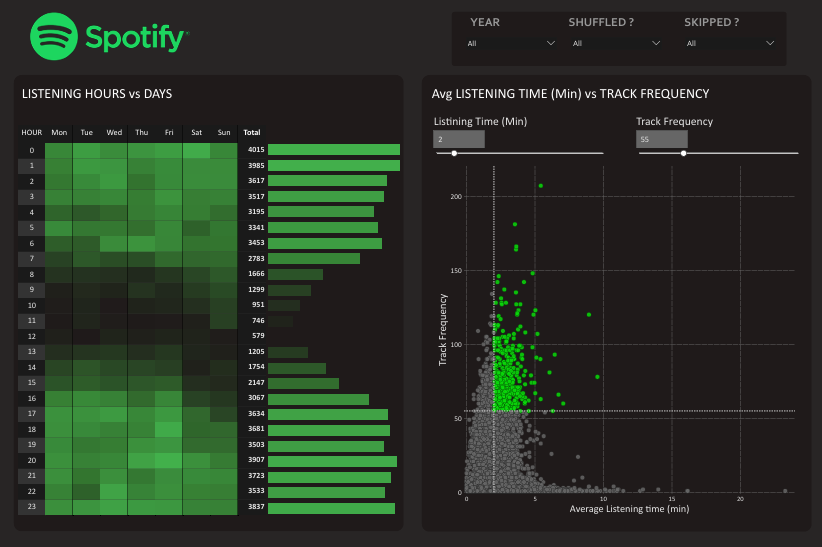

Layout of this report page (visuals, bound fields, positions):
{"tool":"powerbi","page":{"name":"Duplicate of OVERVIEW ","canvas":[3300,2200],"ordinal":1},"visuals":[{"type":"image","box":[85.3,0,713.9,300.8],"z":0,"group":"g2"},{"type":"shape","box":[1806.7,46.7,1340,216.7],"z":0,"group":"g1"},{"type":"slicer","fields":{"Values":["spotify_history.shuffle"]},"box":[2280.5,143.4,371.2,90],"z":1000,"group":"g1"},{"type":"shape","box":[55,300,1560,1825],"z":1000,"group":"g2"},{"type":"slicer","fields":{"Values":["spotify_history.skipped"]},"box":[2736.6,143.4,371.2,90],"z":2000,"group":"g1"},{"type":"textbox","box":[2273.4,56.7,364.2,76.7],"z":3000,"group":"g1"},{"type":"textbox","box":[2736.6,56.7,325.3,76.7],"z":4000,"group":"g1"},{"type":"textbox","box":[1835,56.7,212.1,76.7],"z":5000,"group":"g1"},{"type":"slicer","fields":{"Values":["Date.Year"]},"box":[1859.7,143.4,371.2,90],"z":6000,"group":"g1"},{"type":"pivotTable","fields":{"Columns":["Date.Day"],"Rows":["spotify_history.HOUR"],"Values":["Table.NO of Tracks"]},"box":[56.7,490,1070,1636.7],"z":8000,"group":"g2"},{"type":"barChart","fields":{"Category":["spotify_history.HOUR"],"Y":["Table.NO of Tracks"]},"box":[1056.7,553.3,560,1523.3],"z":9000,"group":"g2"},{"type":"textbox","box":[86.7,340,900,86.7],"z":10000,"group":"g2"},{"type":"shape","box":[1686.7,300,1560,1826.7],"z":11000,"group":"g2"},{"type":"scatterChart","fields":{"Category":["spotify_history.track_name"],"X":["spotify_history.Average Listening time (min)"],"Y":["spotify_history.Track Frequency"]},"box":[1726.7,643.3,1483.3,1433.3],"z":12000,"group":"g2"},{"type":"slicer","fields":{"Values":["Listining Time (Min).Listining Time (Min)"]},"box":[1726.7,456.7,703.3,250],"z":13000,"group":"g2"},{"type":"slicer","fields":{"Values":["Track Frequency (parameter).Track Frequency (parameter)"]},"box":[2536.7,456.7,673.3,250],"z":14000,"group":"g2"},{"type":"textbox","box":[1726.7,340,1310,86.7],"z":15000,"group":"g2"},{"type":"group","id":"g1","title":"Group 1","box":[1806.7,46.7,1340,216.7],"z":18003,"group":"g2"},{"type":"group","id":"g2","title":"Group 2","box":[55,0,3191.7,2126.7],"z":18004}]}

Visuals, with their boxes in screenshot pixels (x1, y1, x2, y2), scaled from the page's 3300x2200 canvas onto the 822x547 screenshot:
image: crop(21, 0, 199, 75)
shape: crop(450, 12, 784, 65)
slicer - spotify_history.shuffle: crop(568, 36, 661, 58)
shape: crop(14, 75, 402, 528)
slicer - spotify_history.skipped: crop(682, 36, 774, 58)
textbox: crop(566, 14, 657, 33)
textbox: crop(682, 14, 763, 33)
textbox: crop(457, 14, 510, 33)
slicer - Date.Year: crop(463, 36, 556, 58)
pivotTable - Date.Day x spotify_history.HOUR: crop(14, 122, 281, 529)
barChart - spotify_history.HOUR x Table.NO of Tracks: crop(263, 138, 403, 516)
textbox: crop(22, 85, 246, 106)
shape: crop(420, 75, 809, 529)
scatterChart - spotify_history.track_name x spotify_history.Average Listening time (min): crop(430, 160, 800, 516)
slicer - Listining Time (Min).Listining Time (Min): crop(430, 114, 605, 176)
slicer - Track Frequency (parameter).Track Frequency (parameter): crop(632, 114, 800, 176)
textbox: crop(430, 85, 756, 106)
"Group 1" group: crop(450, 12, 784, 65)
"Group 2" group: crop(14, 0, 809, 529)
